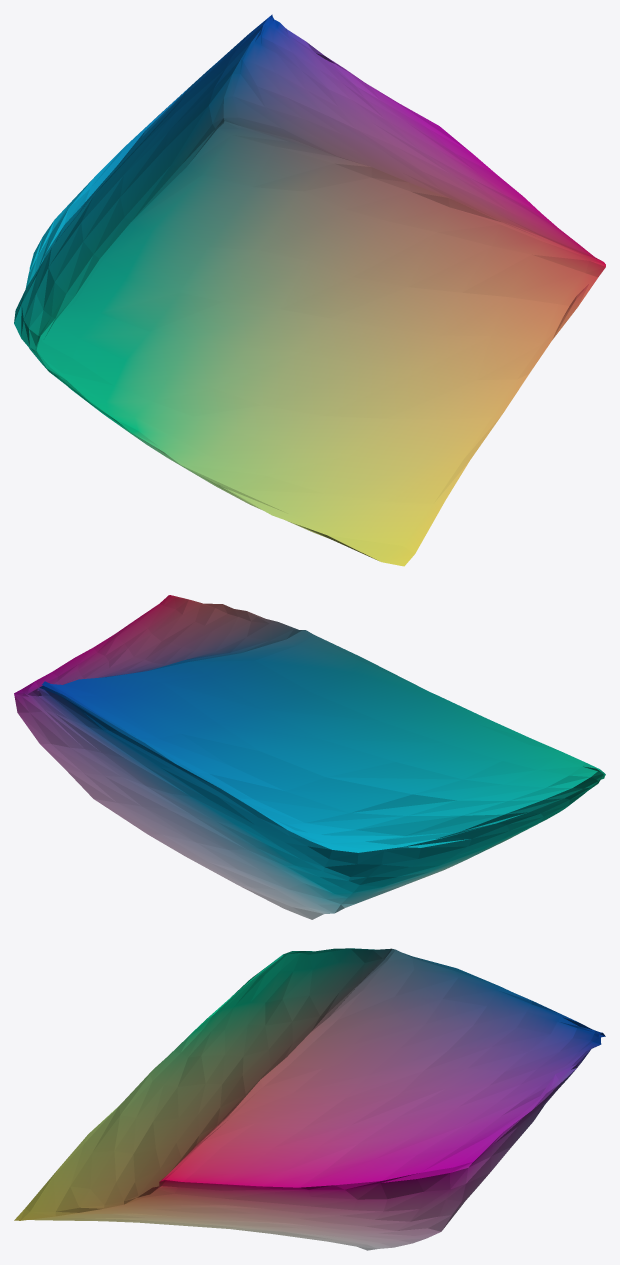
Rendered from canon_in_abL_output(1).glb.
3 views of the same model, one above another, from view 1: azimuth 30°, elevation 25°; view 2: azimuth 150°, elevation 25°; view 3: azimuth 270°, elevation 25° (orthographic). The views are drawn at different scales.
Visible parts, largest first — view 1: world; view 2: world; view 3: world.
Part boxes in pixels (box(x1,y1,x2,y2)): world: box(14, 14, 605, 566); world: box(14, 595, 605, 919); world: box(14, 948, 605, 1250).
Size of the model in its own units: 151 by 86.56 by 158.
